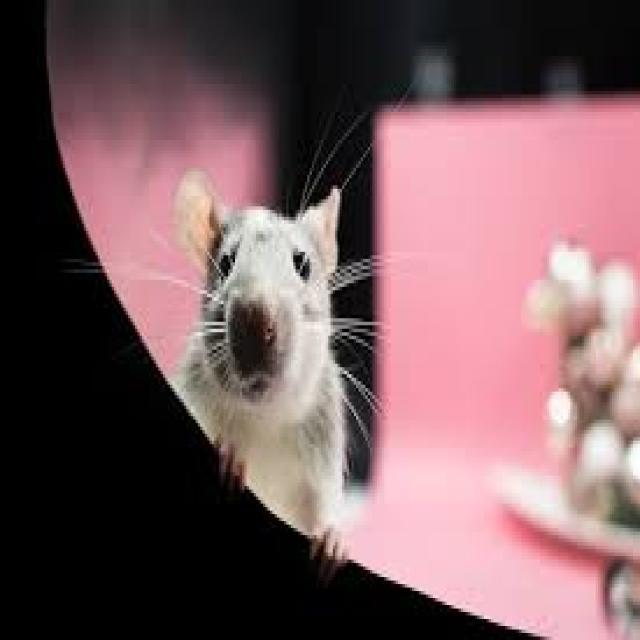Rat: (146, 149, 416, 575)
